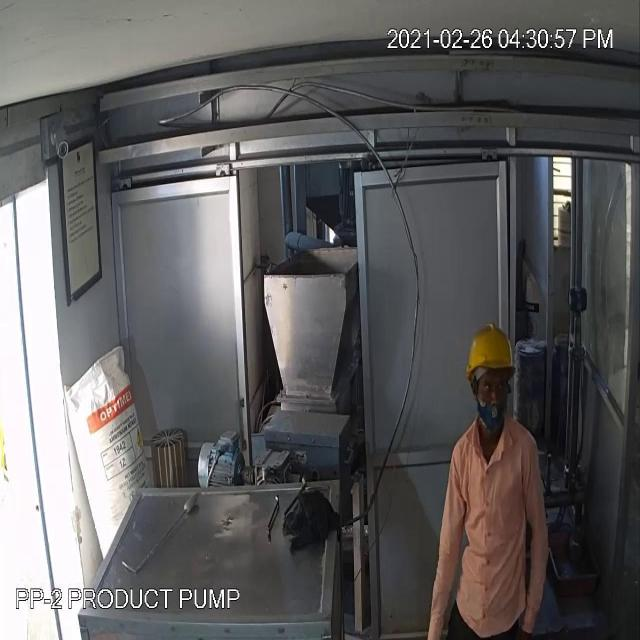helmet: (461, 314, 519, 388)
